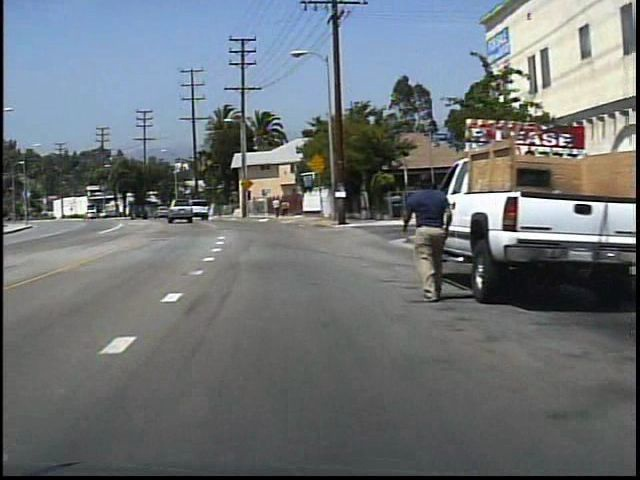person: (394, 166, 450, 301), (272, 195, 282, 219), (279, 197, 290, 218)
